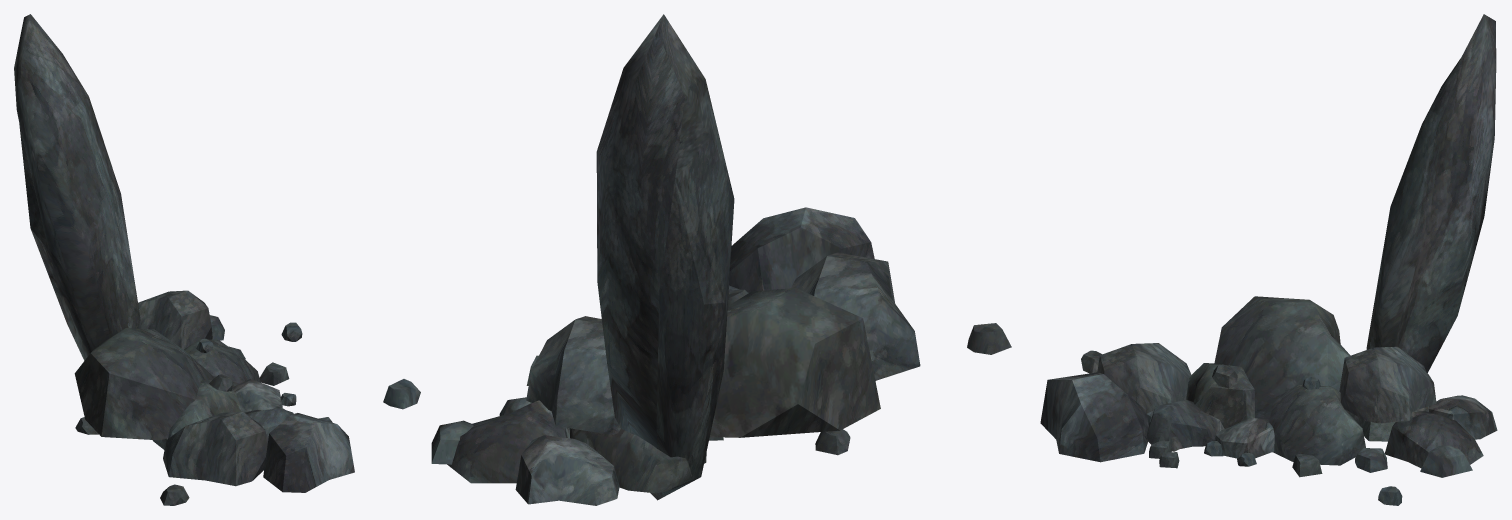
Rendered from object_rubble12.fbx.
3 views of the same model, side by side, from view 1: azimuth 30°, elevation 25°; view 2: azimuth 150°, elevation 25°; view 3: azimuth 270°, elevation 25° (orthographic). The views are drawn at different scales.
Visible parts, largest first — view 1: object_rubble12-0; view 2: object_rubble12-0; view 3: object_rubble12-0.
Boxes of the visible parts, x1=… form: object_rubble12-0: x1=14, y1=14, x2=354, y2=505; object_rubble12-0: x1=383, y1=14, x2=1011, y2=505; object_rubble12-0: x1=1040, y1=14, x2=1497, y2=505.
Size of the model in its own units: 8.82 by 11.13 by 11.65.
